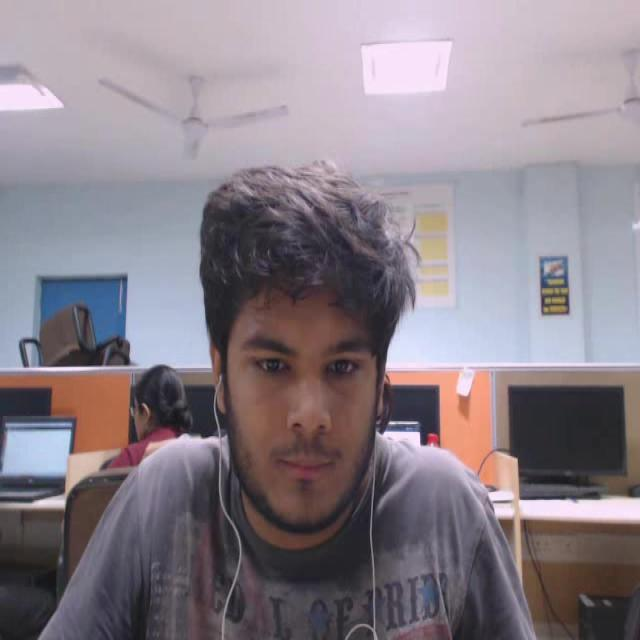Engaged: (155, 150, 421, 568)
